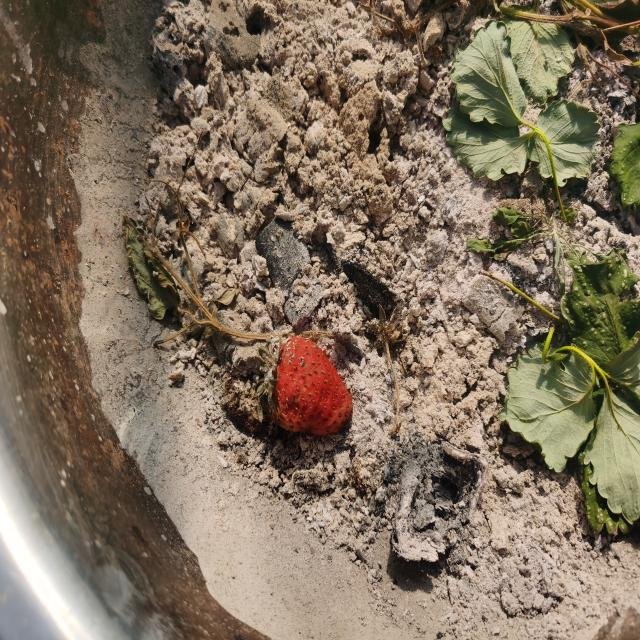strawberry: (269, 336, 354, 434)
